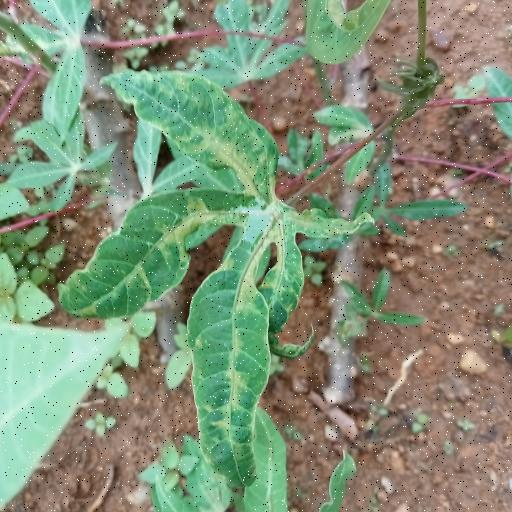Cassava_Mosaic: (63, 70, 360, 478)
